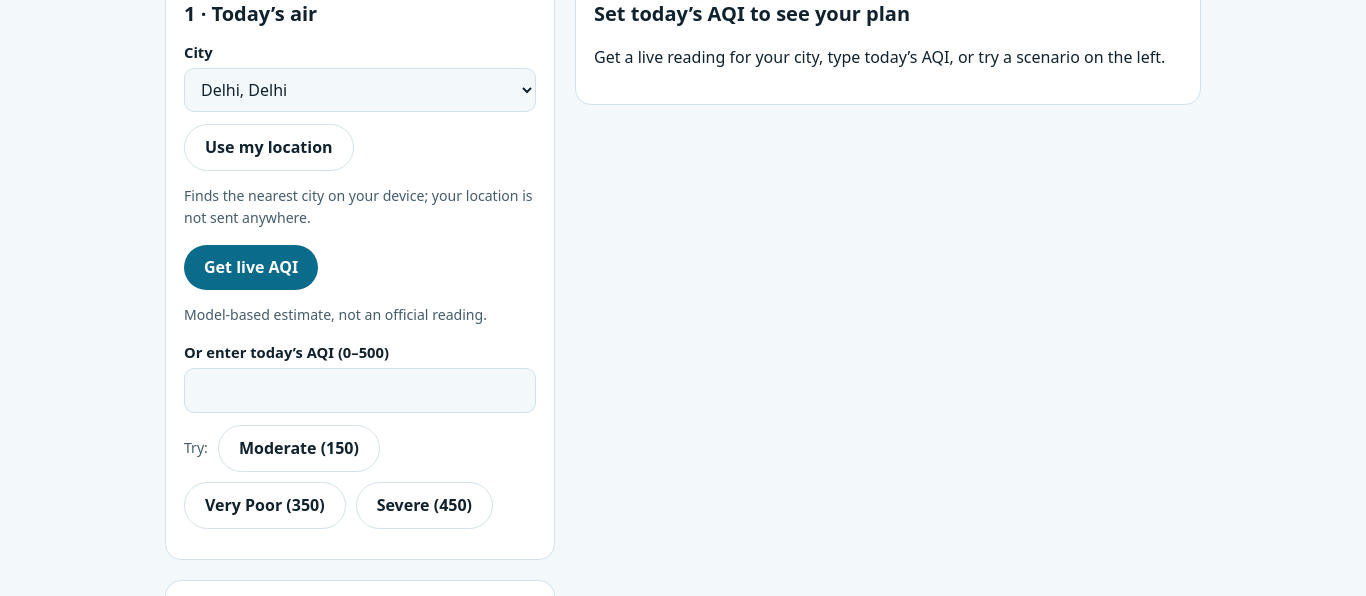
Test case: a dynamic assistant › shows the impact of the top steps in numbers
Click the button "Severe (450)": (424, 505) 356,482 -> 493,528
(page scrolled)
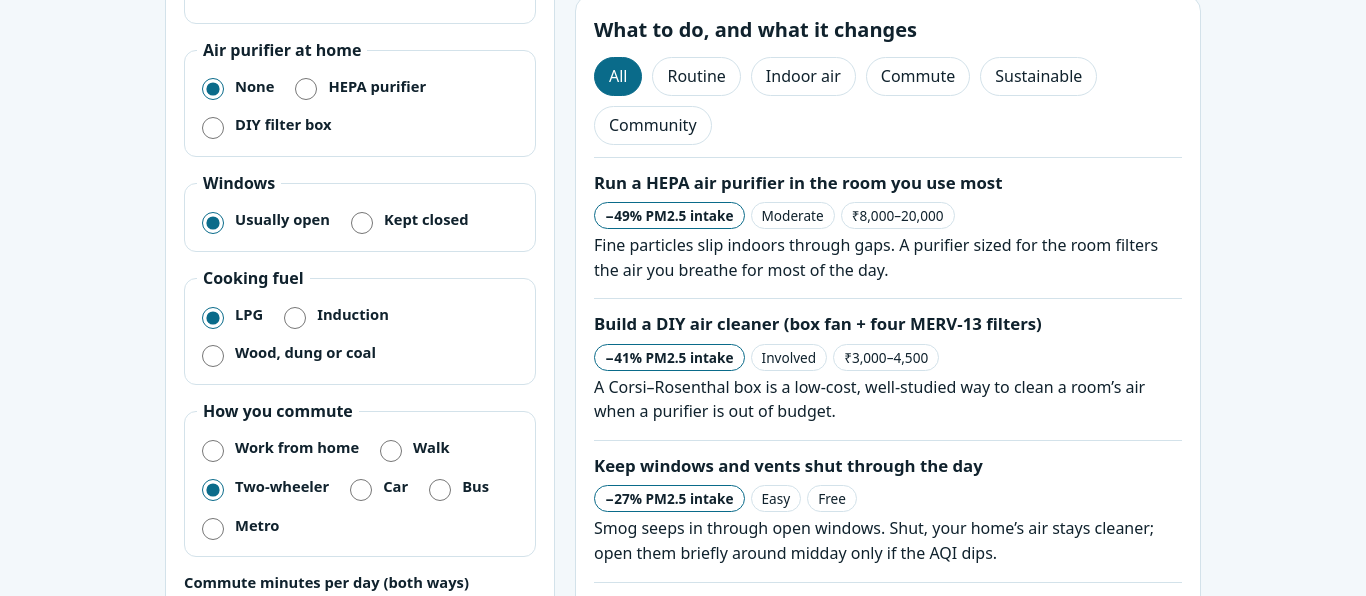
Expected: the text "−49% PM2.5 intake" is shown, 594,202 -> 744,229
